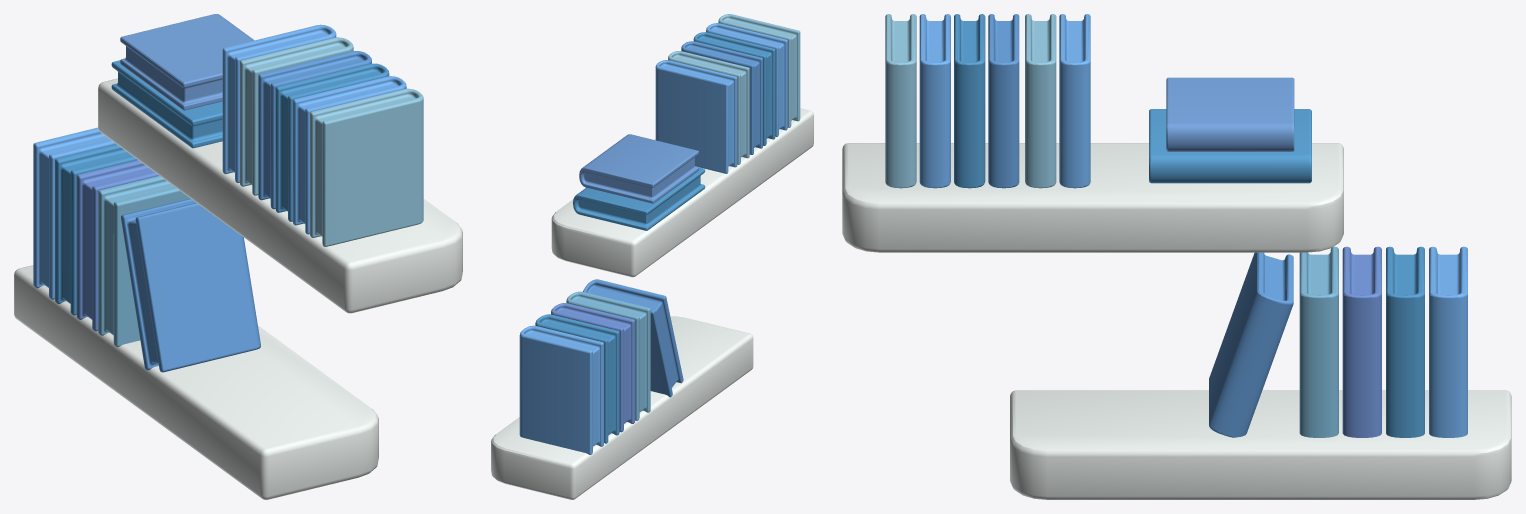
Rendered from bookshelf 2.glb.
3 renders of one model, left to right at view 1: azimuth 30°, elevation 25°; view 2: azimuth 150°, elevation 25°; view 3: azimuth 270°, elevation 25°, orthographic. The views are drawn at different scales.
Visible parts, largest first — view 1: Cube.086, Cube.088, Cube.087, Cube.099, Cube.100, Cube.091, Cube.092, Cube.094, Cube.093, Cube.096, Cube.097, Cube.089 (+3 smaller); view 2: Cube.086, Cube.088, Cube.094, Cube.095, Cube.100, Cube.087, Cube.090, Cube.092, Cube.091, Cube.093, Cube.089, Cube.097 (+3 smaller); view 3: Cube.086, Cube.088, Cube.100, Cube.087, Cube.092, Cube.091, Cube.094, Cube.093, Cube.090, Cube.098, Cube.096, Cube.099 (+3 smaller).
Part boxes in pixels (x1,y1,x2,y2): Cube.086: (14, 265, 378, 499); Cube.088: (98, 78, 462, 313); Cube.087: (121, 198, 260, 372); Cube.099: (310, 88, 423, 246); Cube.100: (120, 14, 254, 110); Cube.091: (98, 176, 189, 347); Cube.092: (76, 160, 159, 331); Cube.094: (33, 127, 115, 299); Cube.093: (55, 144, 137, 315); Cube.096: (240, 37, 353, 195); Cube.097: (275, 63, 389, 221); Cube.089: (258, 51, 371, 209); Cube.086: (491, 316, 753, 499); Cube.088: (551, 108, 813, 277); Cube.094: (519, 325, 603, 454); Cube.095: (655, 60, 737, 173); Cube.100: (579, 134, 698, 203); Cube.087: (583, 279, 683, 397); Cube.090: (573, 167, 705, 230); Cube.092: (551, 303, 635, 432); Cube.091: (566, 291, 650, 420); Cube.093: (535, 314, 619, 443); Cube.089: (681, 41, 762, 154); Cube.097: (693, 32, 775, 145); Cube.086: (1010, 390, 1511, 499); Cube.088: (842, 143, 1343, 252); Cube.100: (1166, 77, 1294, 151); Cube.087: (1209, 252, 1293, 437); Cube.092: (1342, 246, 1381, 437); Cube.091: (1299, 246, 1338, 437); Cube.094: (1429, 246, 1467, 437); Cube.093: (1386, 246, 1424, 437); Cube.090: (1149, 109, 1311, 183); Cube.098: (919, 14, 950, 188); Cube.096: (1025, 14, 1056, 188); Cube.099: (885, 14, 916, 188).
Bounding box in the file's own units: 0.3195 × 0.9959 × 1.42.
